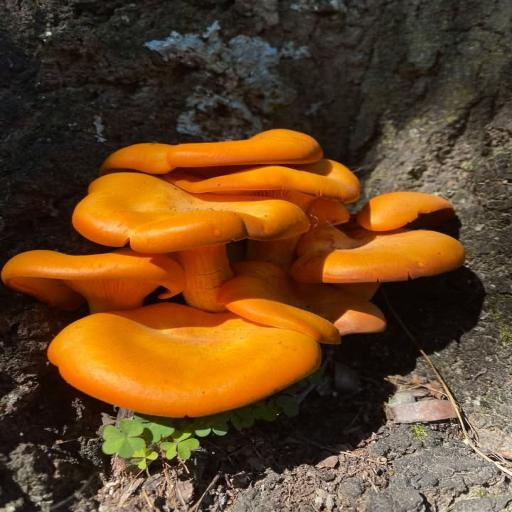Jack O Lantern Mushroom: (41, 301, 344, 419), (64, 168, 308, 312), (290, 228, 470, 349), (8, 245, 184, 323), (179, 152, 360, 227), (104, 126, 330, 180), (350, 183, 459, 233)
